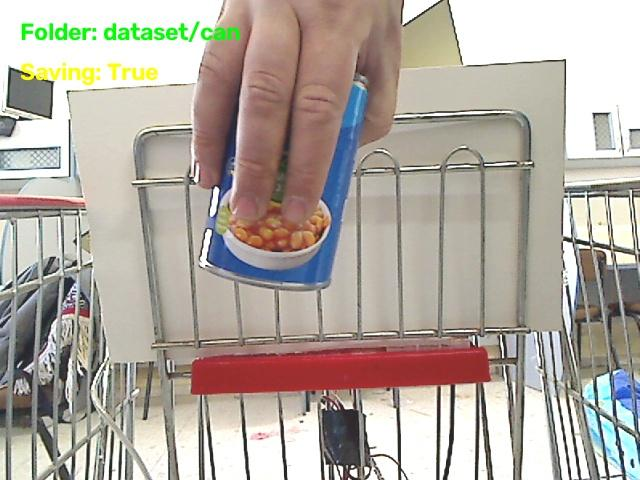can: (200, 75, 366, 289)
